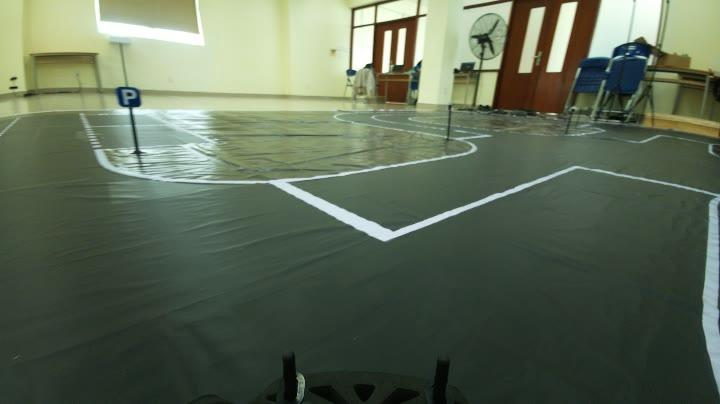parking: (112, 86, 148, 108)
